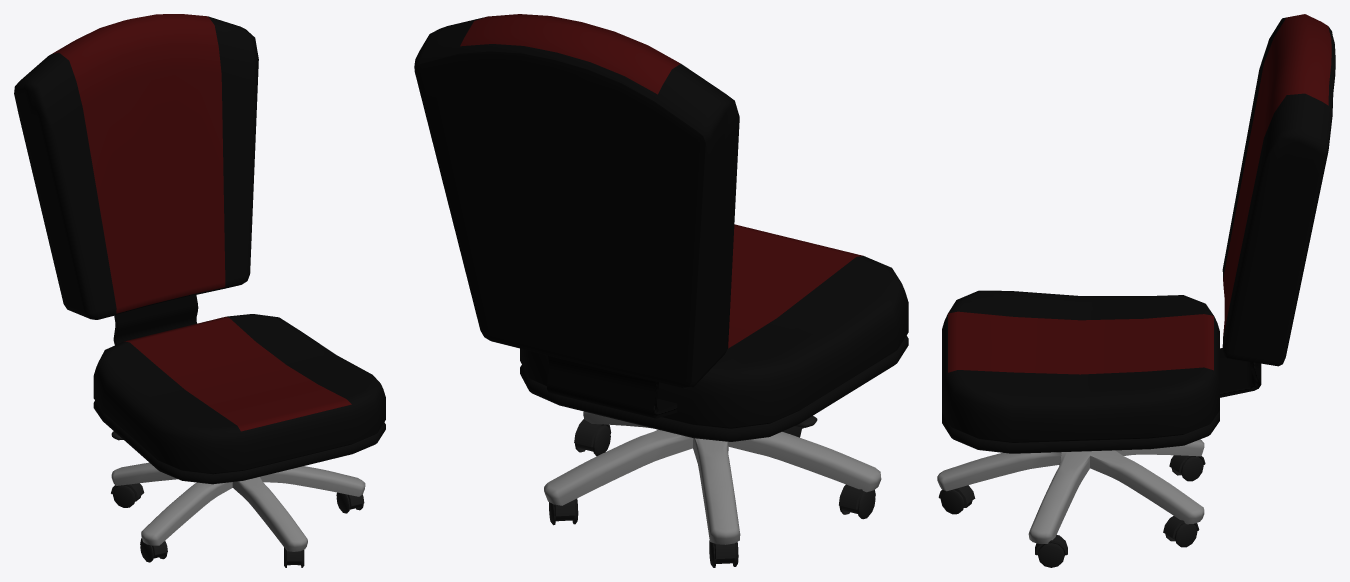
The model's file is pokerchair.fbx.
3 renders of one model, left to right at view 1: azimuth 30°, elevation 25°; view 2: azimuth 150°, elevation 25°; view 3: azimuth 270°, elevation 25°, orthographic. The views are drawn at different scales.
Parts seen in each view (by area): view 1: pokerchair_low; view 2: pokerchair_low; view 3: pokerchair_low.
Part boxes in pixels (<box>): pokerchair_low: <box>14,14,385,567</box>; pokerchair_low: <box>414,14,908,567</box>; pokerchair_low: <box>937,14,1335,567</box>.
Size of the model in its own units: 15.06 by 27.79 by 21.26.
